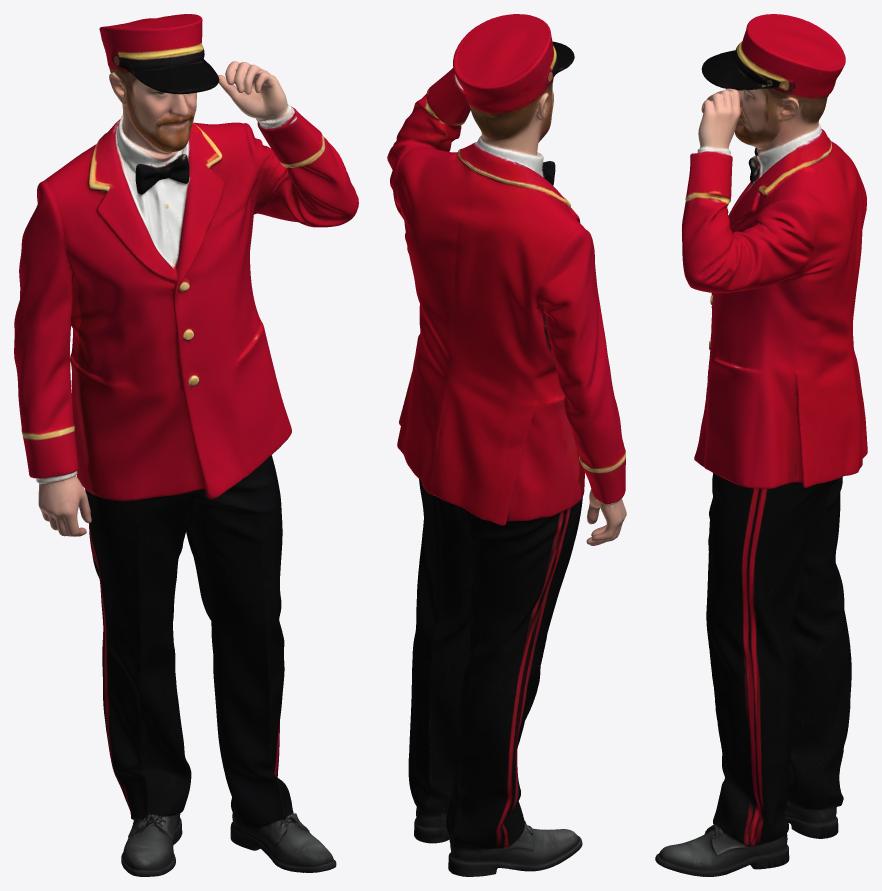
Rendered from bellhop.glb.
The picture shows the model from 3 angles, left to right: view 1: azimuth 30°, elevation 25°; view 2: azimuth 150°, elevation 25°; view 3: azimuth 270°, elevation 25°; orthographic projection. The views are drawn at different scales.
Parts seen in each view (by area): view 1: Object_5, Object_6; view 2: Object_6, Object_5; view 3: Object_6, Object_5.
Part boxes in pixels (x1=…): Object_5: x1=19, y1=15, x2=358, y2=876; Object_6: x1=14, y1=14, x2=290, y2=865; Object_6: x1=393, y1=14, x2=626, y2=876; Object_5: x1=387, y1=14, x2=625, y2=864; Object_6: x1=717, y1=14, x2=867, y2=867; Object_5: x1=655, y1=28, x2=826, y2=876.
Size of the model in its own units: 0.5929 by 1.7 by 0.4121.
1 material, 1 textured.
